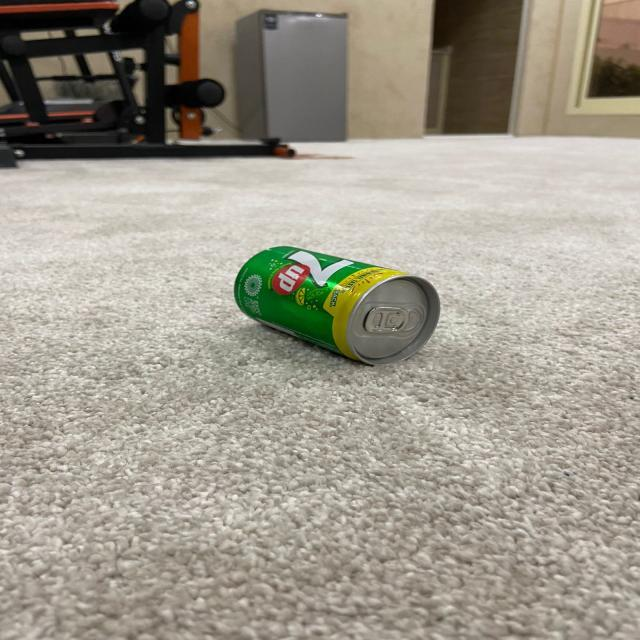can: (235, 243, 441, 368)
